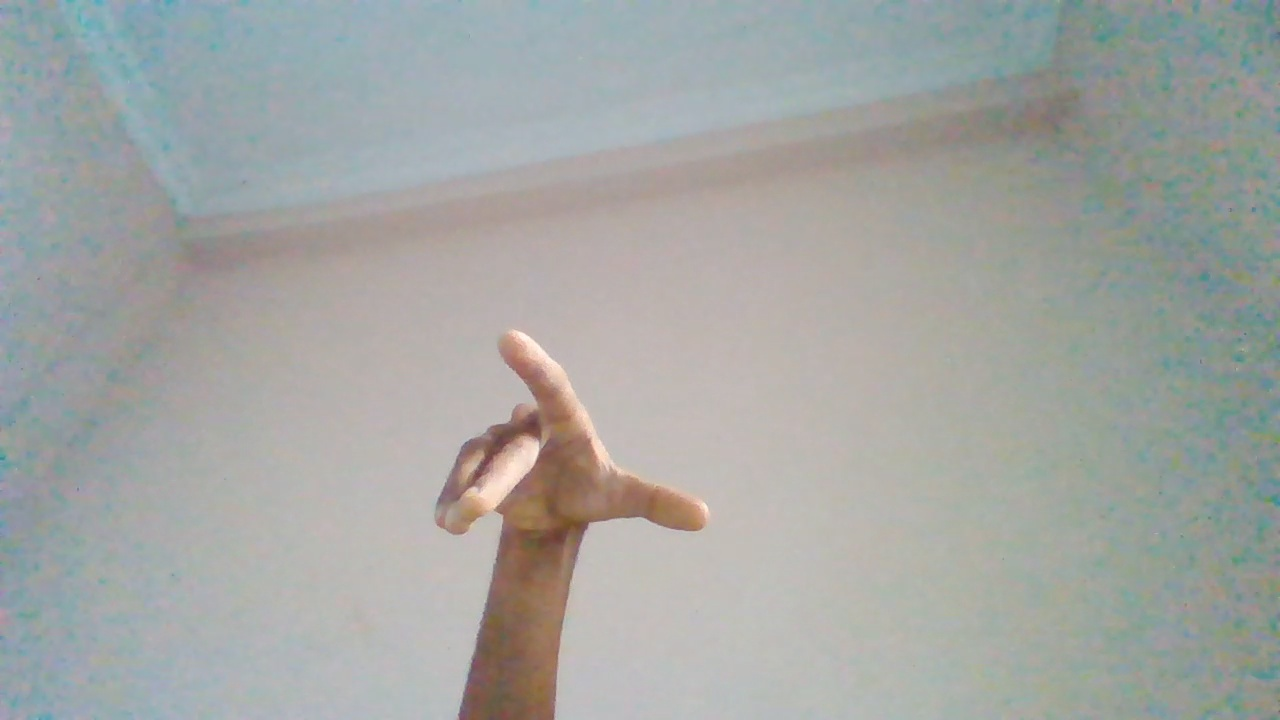ke: (433, 324, 721, 699)
